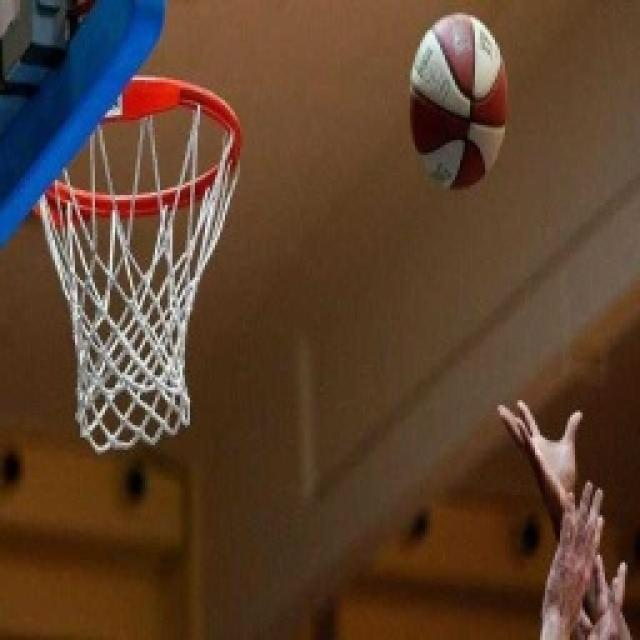basketball: (400, 2, 520, 200)
